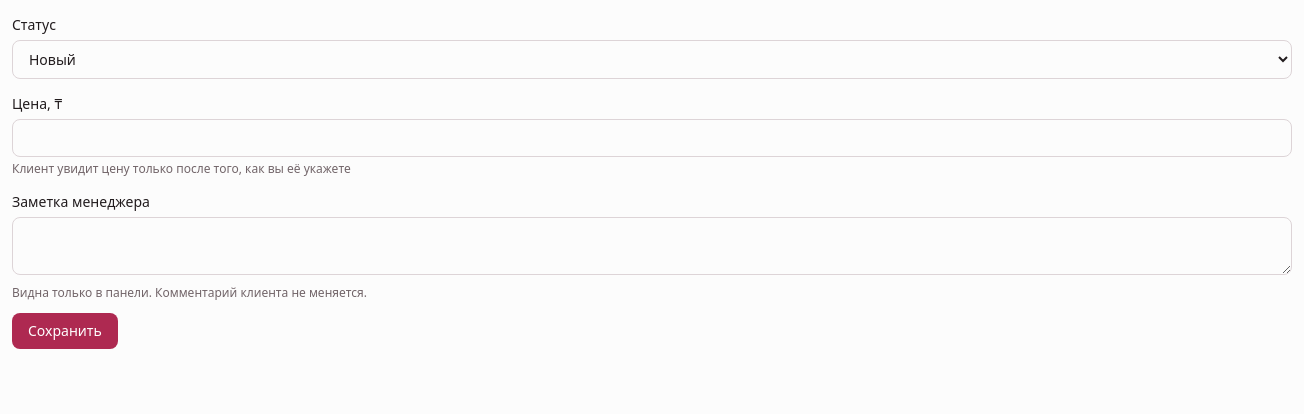
Scenario: F2: қате болғанда формадағы мәндер сақталады › Монобукет: CONFIRMED бағасыз → қате, статус NEW-ге қайтпайды
Select "Подтверждён" in the dropdown labelled "Статус" at (652, 60), box [12,40,1292,79]
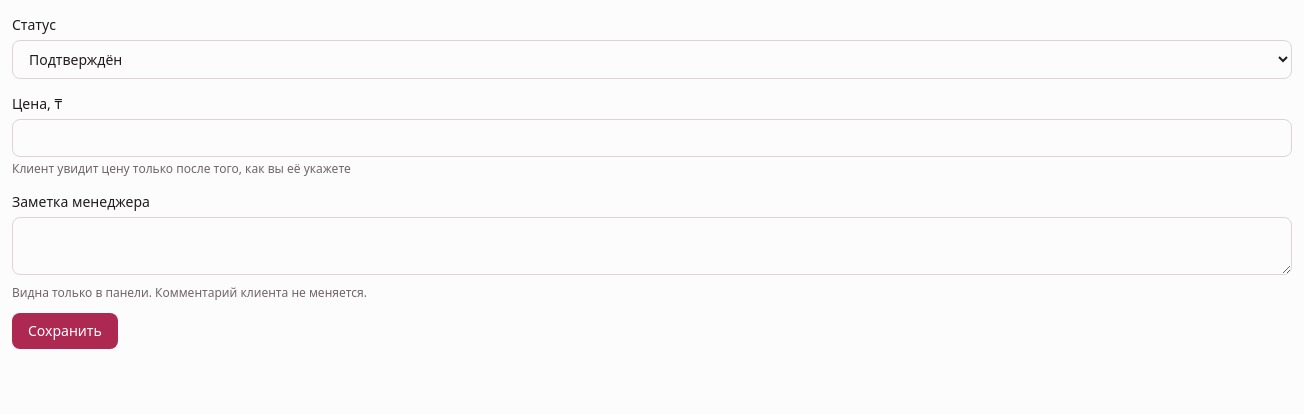
Type "клиент ждёт" into the text box at (652, 246), box [12,217,1292,275]
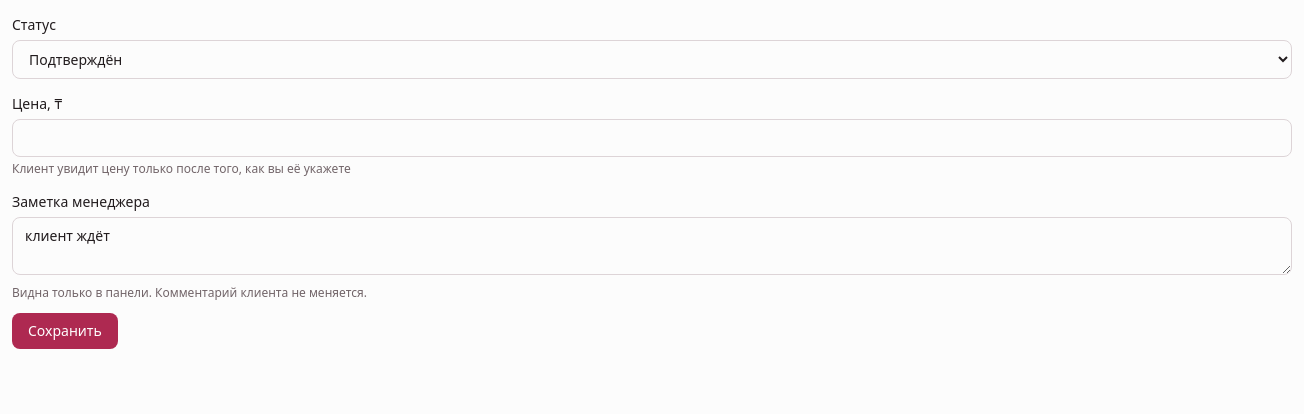
Submit the form
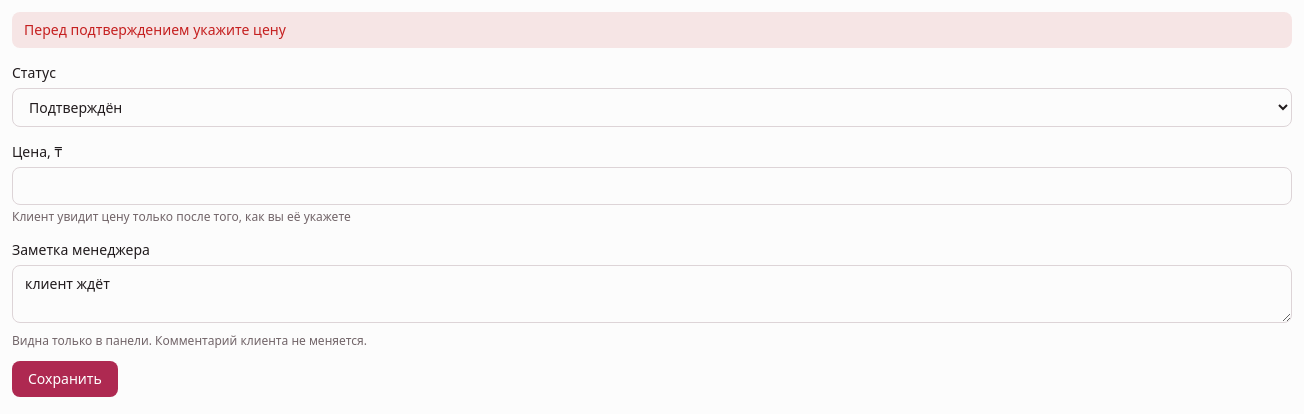
Check: the text "Перед подтверждением укажите цену" is shown, box [12,12,1292,48]
